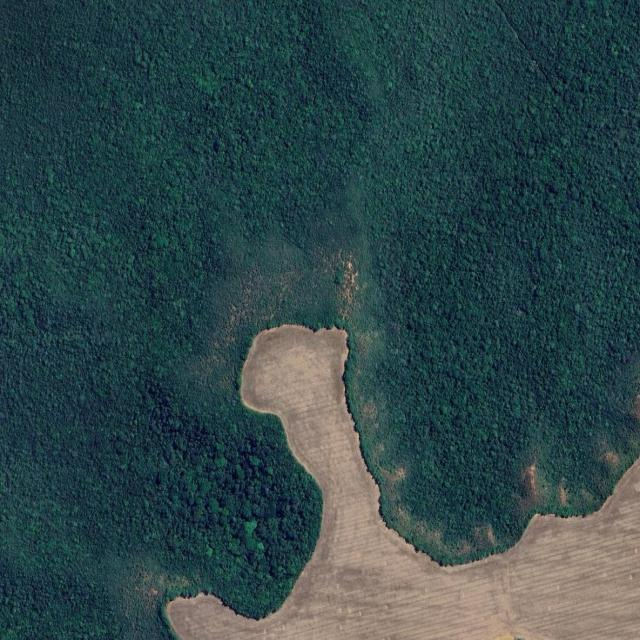noVegetation: (168, 324, 640, 638)
vegetation: (0, 2, 640, 638)
